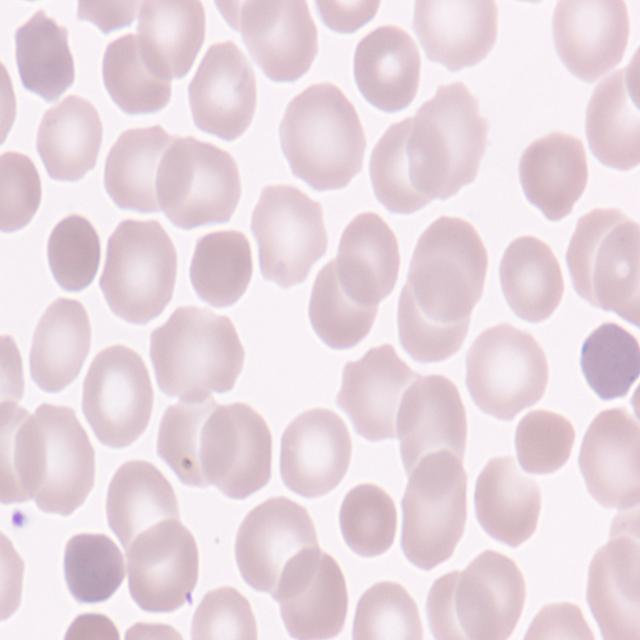RBC: (276, 79, 371, 191), (251, 511, 335, 632), (0, 400, 88, 515), (403, 213, 493, 321), (409, 80, 490, 200), (148, 304, 248, 401), (229, 496, 322, 599), (99, 214, 182, 327), (396, 449, 472, 572), (365, 107, 448, 215), (76, 338, 156, 449), (104, 454, 185, 562), (462, 322, 551, 419), (98, 120, 184, 220), (120, 518, 204, 620), (250, 182, 330, 288), (153, 137, 244, 226), (188, 37, 262, 141), (270, 545, 349, 640), (201, 401, 276, 501), (274, 406, 354, 499), (550, 0, 635, 86), (237, 0, 321, 87), (332, 210, 404, 311), (34, 91, 106, 188), (516, 130, 590, 224), (348, 22, 422, 116), (574, 408, 640, 512), (411, 0, 501, 76), (452, 551, 528, 640), (28, 292, 92, 397), (129, 0, 207, 85), (496, 234, 568, 326), (472, 457, 542, 551), (12, 10, 76, 100), (332, 483, 399, 562), (346, 574, 426, 640), (0, 401, 42, 512), (0, 144, 46, 236), (187, 584, 262, 640), (518, 600, 603, 640), (0, 524, 28, 637), (310, 0, 384, 35), (0, 331, 28, 418), (0, 47, 19, 163), (118, 617, 194, 640), (627, 34, 640, 127)
Spherocyte: (185, 222, 258, 314), (41, 211, 102, 300), (577, 324, 640, 409), (59, 531, 128, 608), (512, 407, 576, 479)
